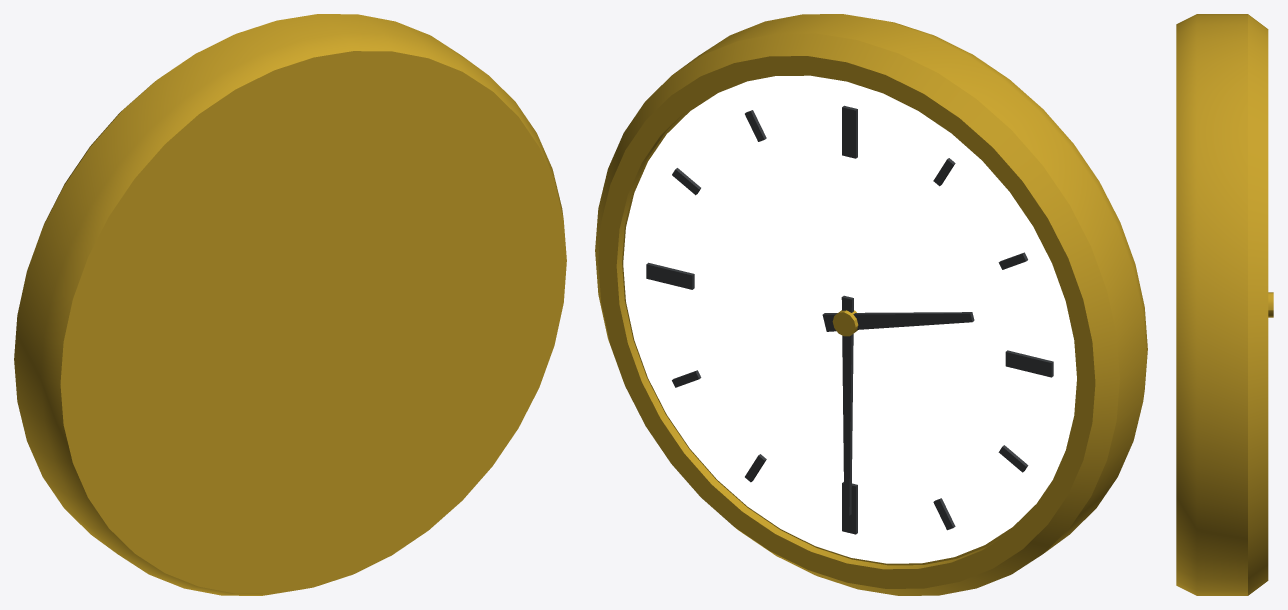
File: prop_clock_harbor.glb
3 views of the same model, side by side, from view 1: azimuth 30°, elevation 25°; view 2: azimuth 150°, elevation 25°; view 3: azimuth 270°, elevation 25° (orthographic). The views are drawn at different scales.
Visible parts, largest first — view 1: Clock; view 2: Clock; view 3: Clock.
Boxes of the visible parts, x1,y1,x2,y2 form: Clock: (14,14,566,595); Clock: (595,14,1147,595); Clock: (1176,14,1273,595).
Size of the model in its own units: 1.14 by 1.14 by 0.19.
